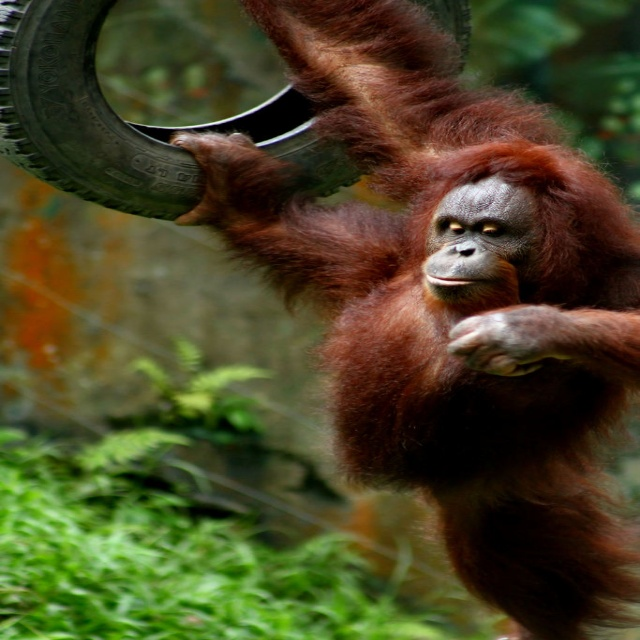Monkey: (173, 0, 639, 640)
